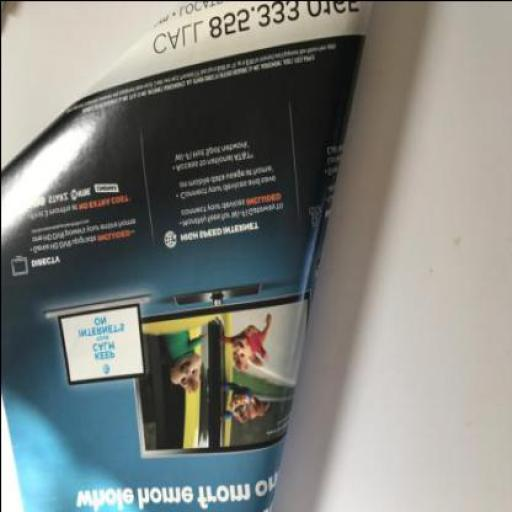paper: (1, 0, 369, 511)
